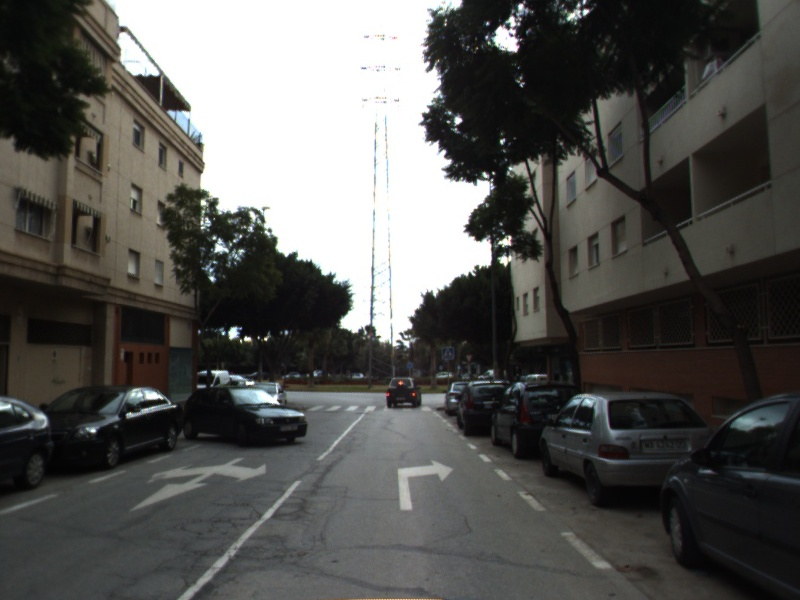RIGHT: (396, 456, 456, 512)
